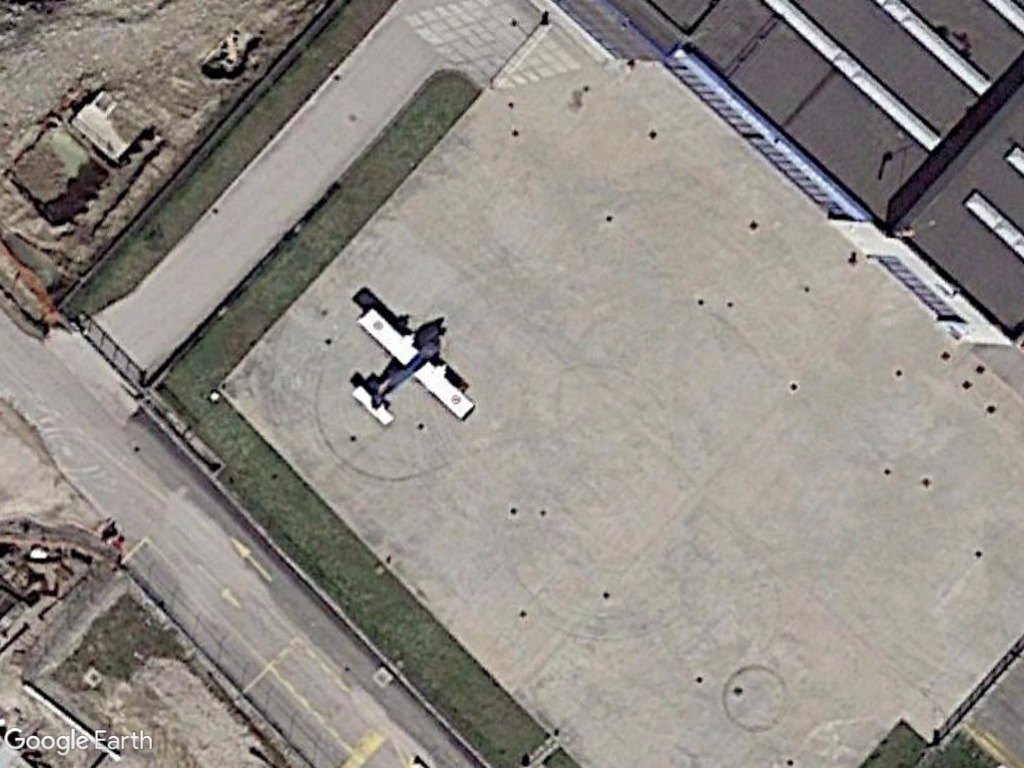trainer: (343, 297, 475, 437)
